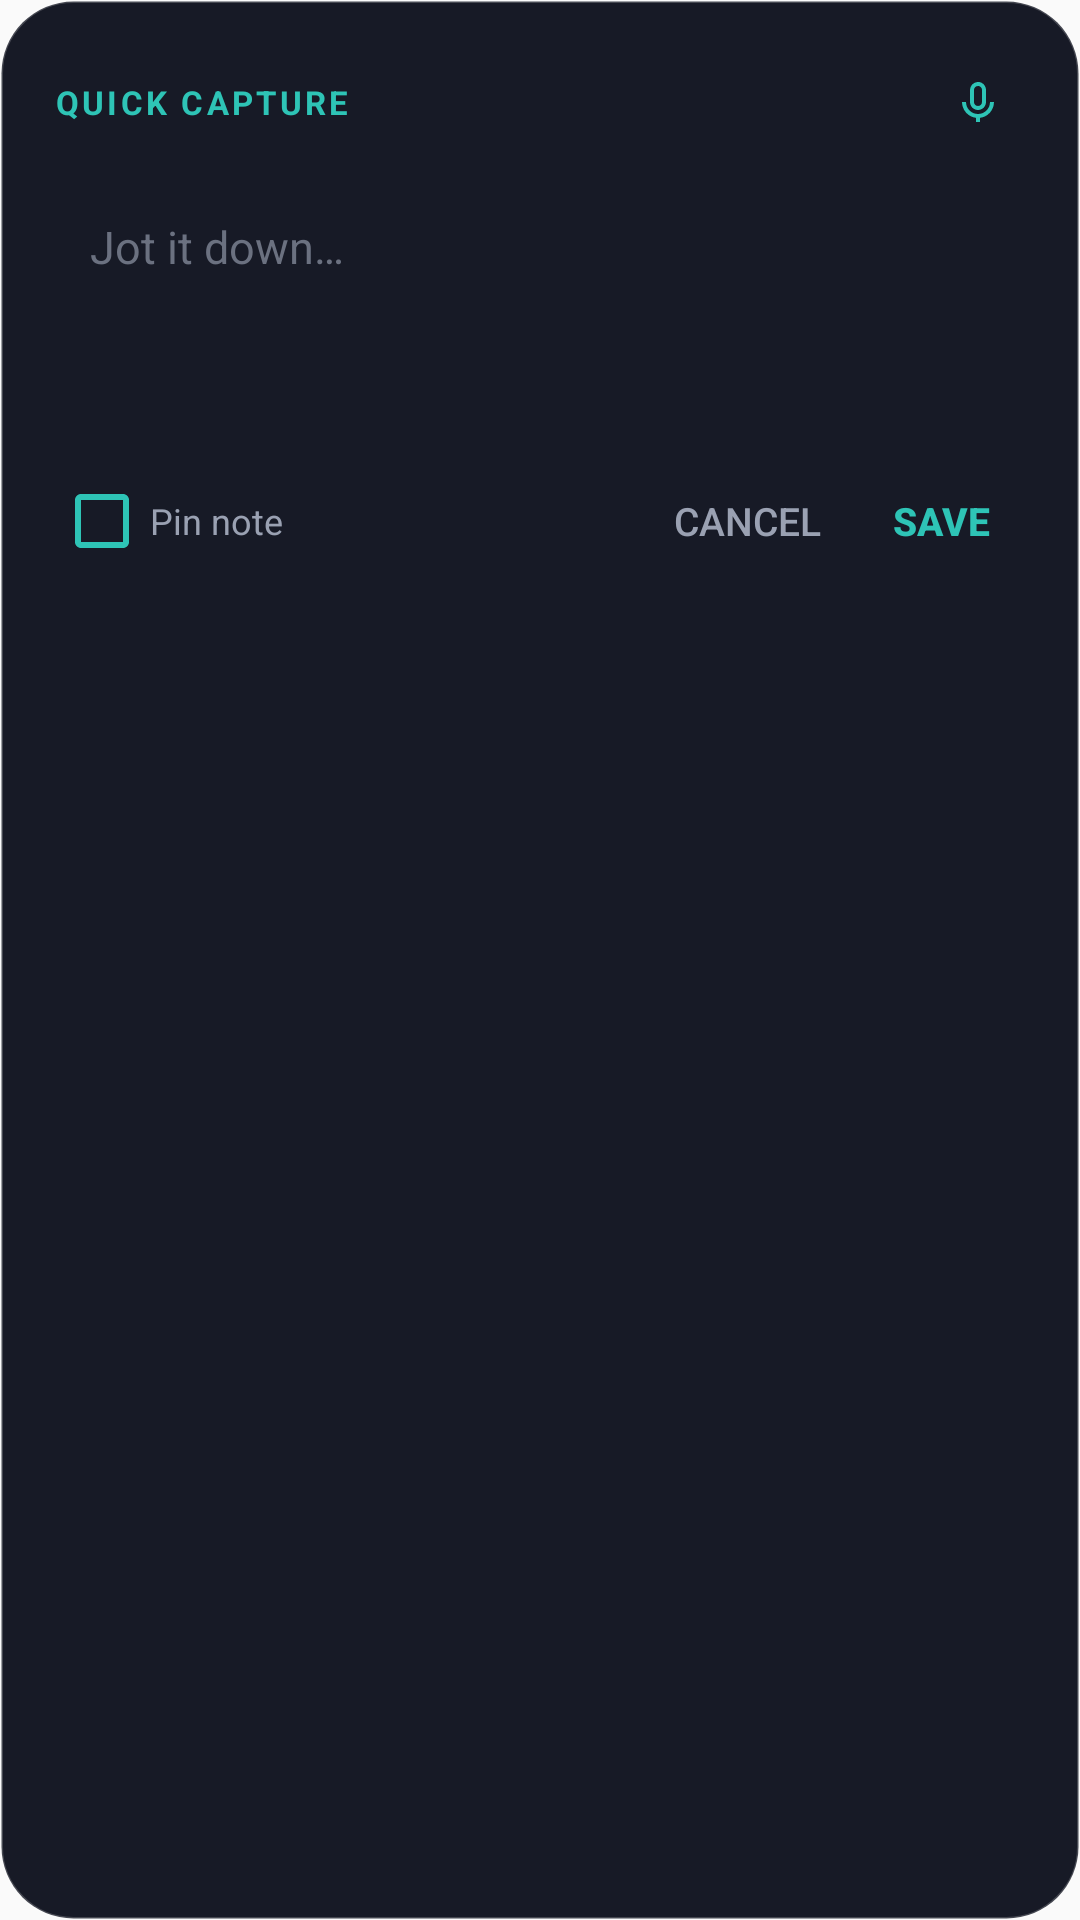

Icon bounding boxes for this 1080px x 1920px phone screenshot, format (x1, y1, x2, y2):
Dictate: (962, 82, 994, 122)
